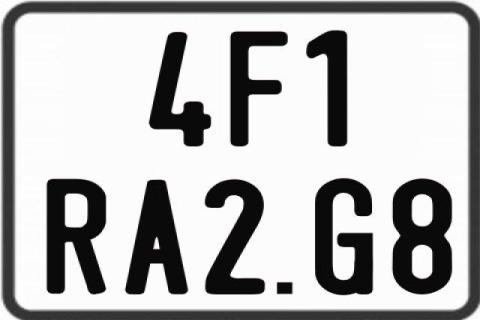0: (390, 176, 455, 295), (146, 32, 213, 146), (204, 179, 266, 296), (305, 31, 351, 149)
A: (123, 178, 186, 296)
F: (229, 32, 292, 150)
G: (315, 179, 377, 299)
R: (44, 180, 104, 296)
